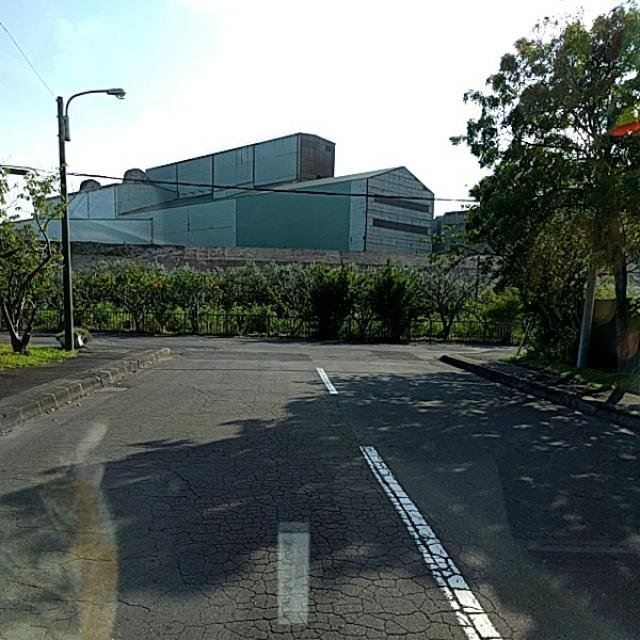pothole: (135, 439, 525, 639)
